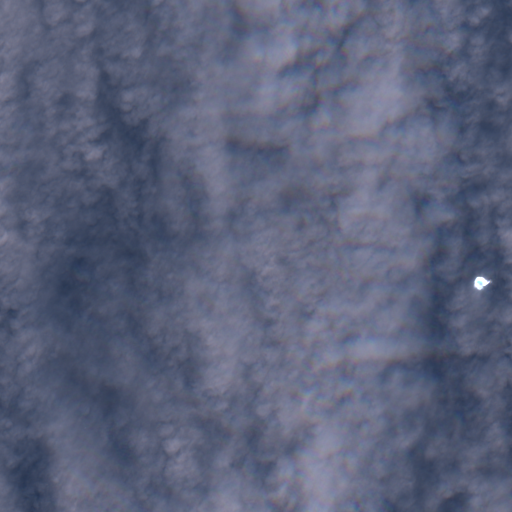Iceberg: (474, 276, 491, 289)
